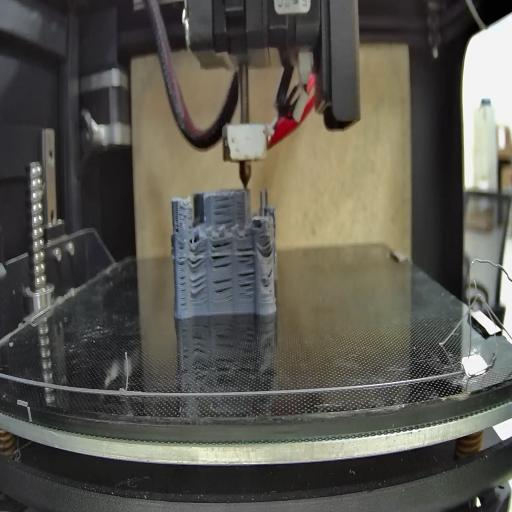cracks: (210, 240, 234, 272), (212, 194, 234, 226), (177, 244, 187, 308), (212, 276, 234, 304), (238, 270, 256, 299), (236, 242, 254, 266), (188, 246, 207, 267), (189, 274, 206, 296), (262, 238, 274, 255), (266, 266, 273, 282), (174, 220, 181, 234)
